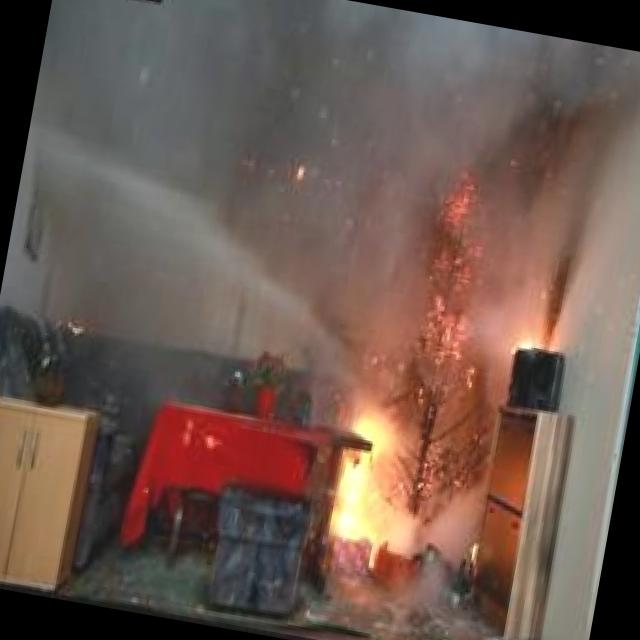fire: (289, 361, 510, 596)
